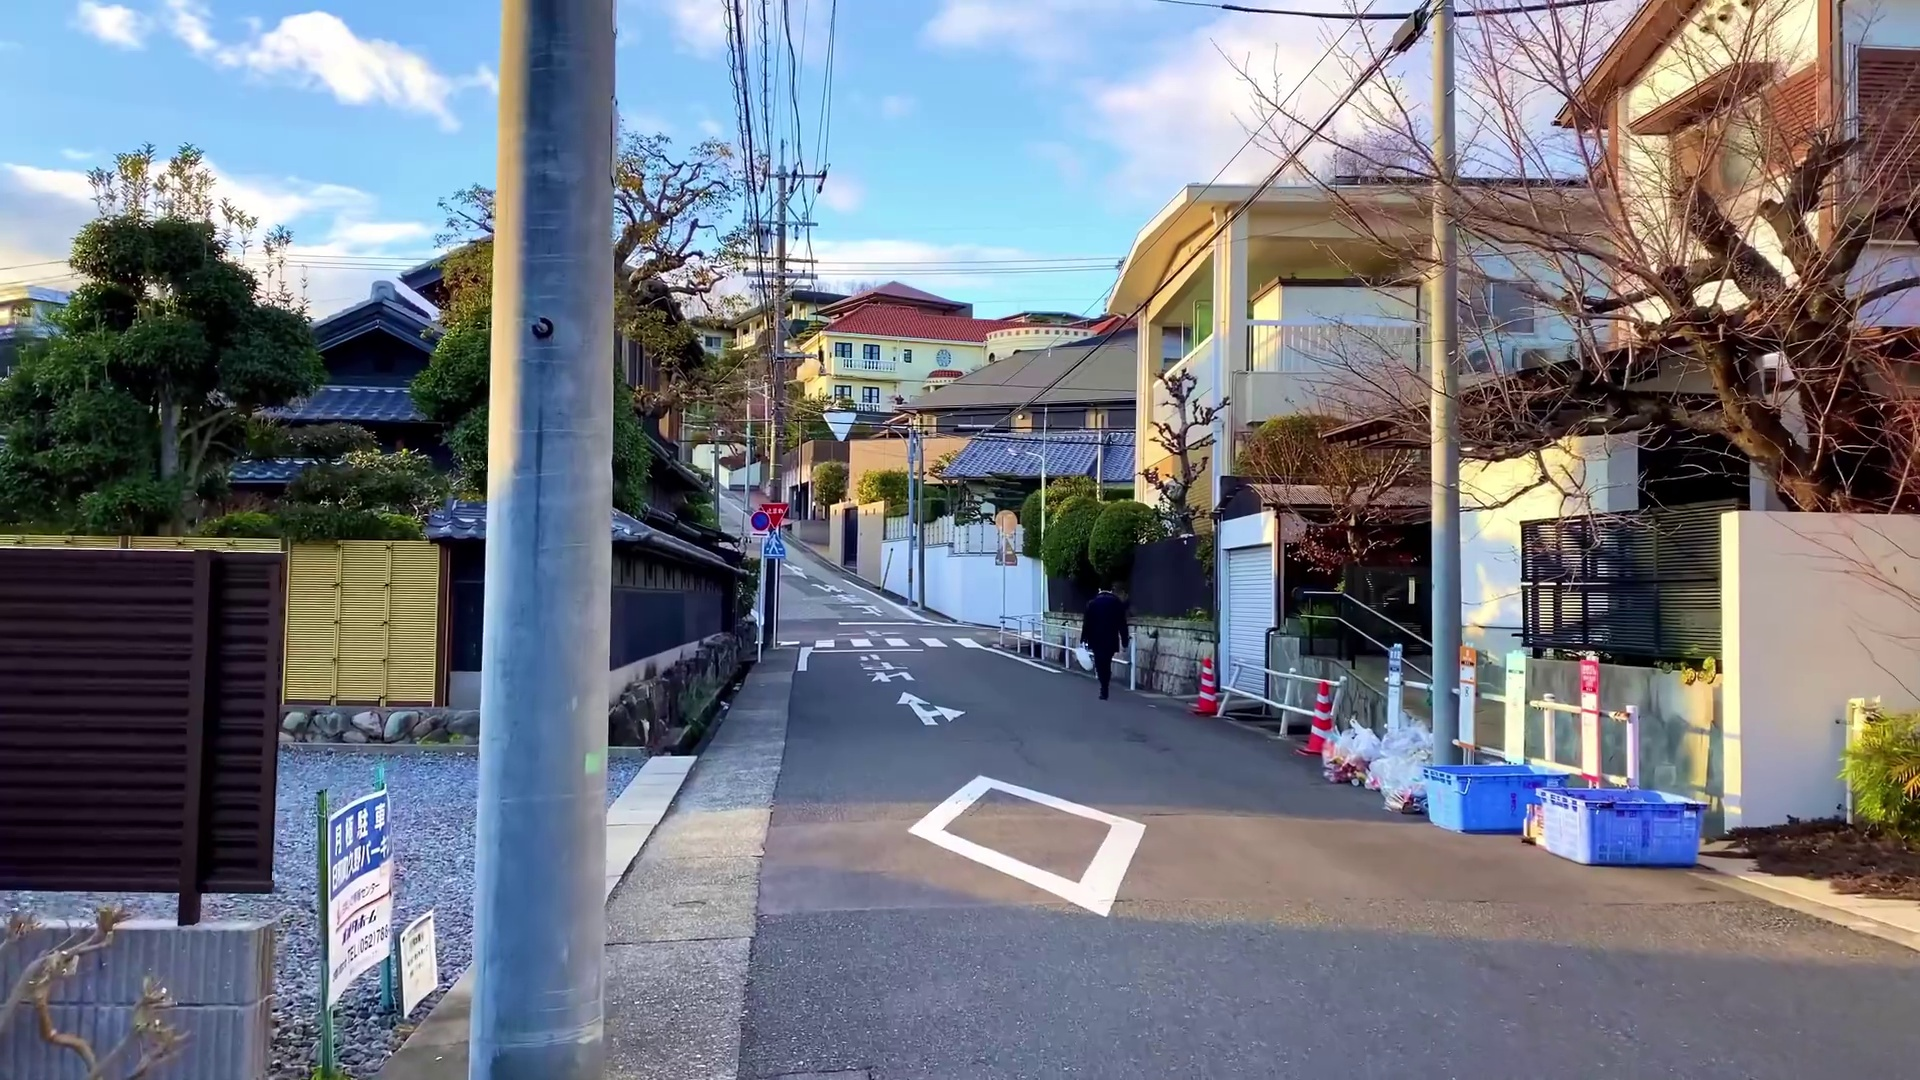person: (1077, 586, 1129, 703)
